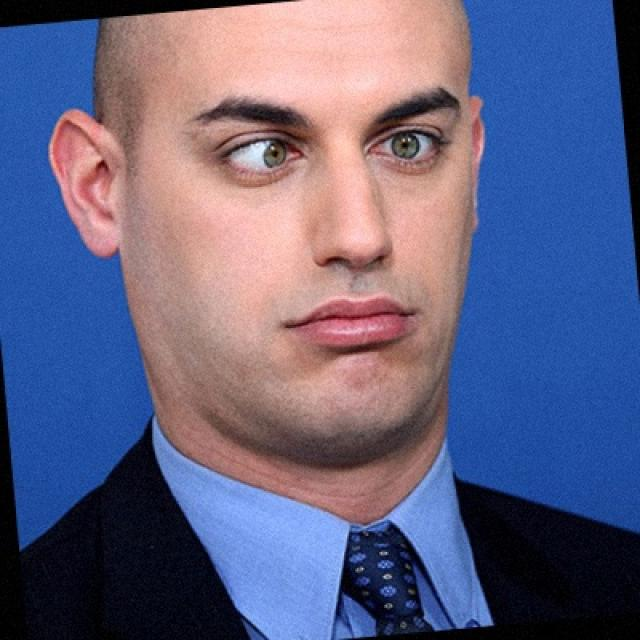Healthy-Eye: (362, 102, 454, 181)
Squint: (206, 110, 320, 204)
